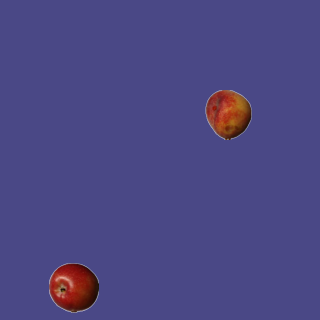Apple Braeburn: (48, 262, 98, 312)
Peach: (203, 89, 253, 139)
